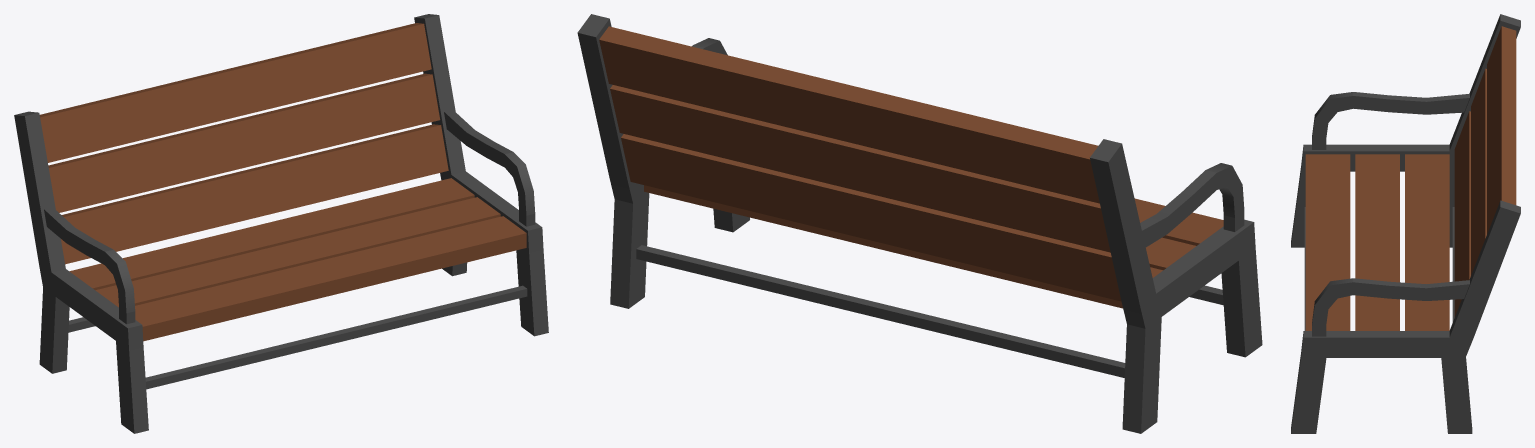
Rendered from fbx_plaza_bench.fbx.
The picture shows the model from 3 angles, left to right: view 1: azimuth 30°, elevation 25°; view 2: azimuth 150°, elevation 25°; view 3: azimuth 270°, elevation 25°; orthographic projection. The views are drawn at different scales.
Parts seen in each view (by area): view 1: fbx_plaza_bench; view 2: fbx_plaza_bench; view 3: fbx_plaza_bench.
Part boxes in pixels (x1,y1,x2,y2): fbx_plaza_bench: (14, 14, 548, 433); fbx_plaza_bench: (577, 14, 1262, 433); fbx_plaza_bench: (1291, 14, 1520, 433).
Size of the model in its own units: 3.19 by 1.75 by 1.6.
Materials: 1 (1 with a texture image).
